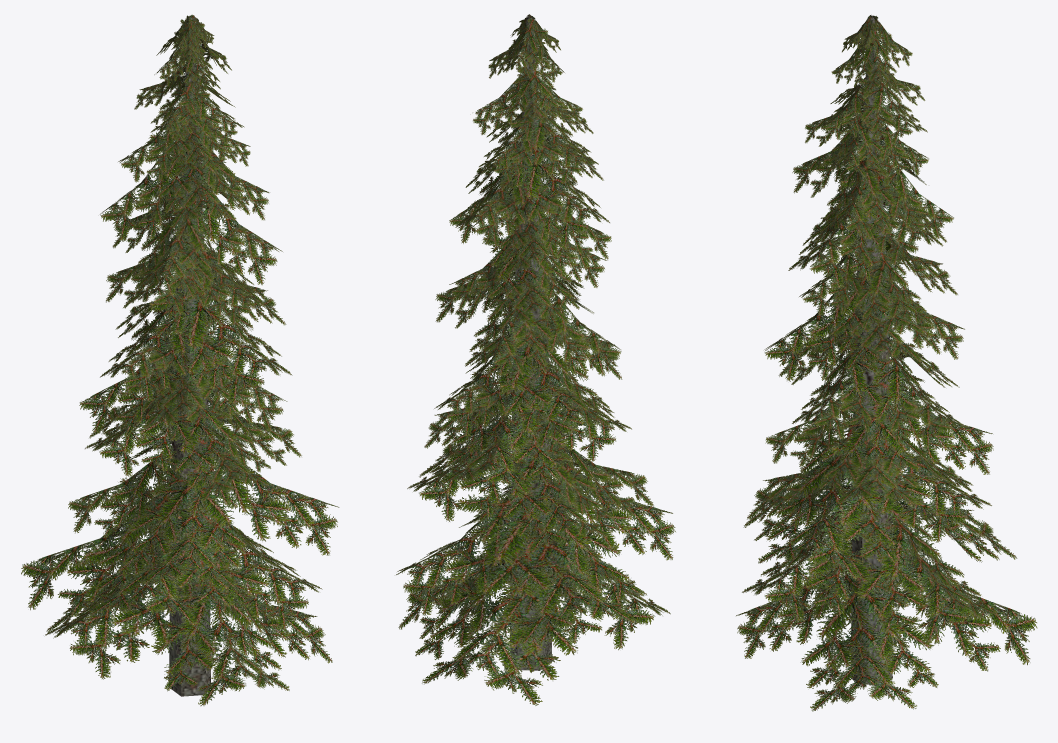
Rendered from abeto_a.glb.
3 views of the same model, side by side, from view 1: azimuth 30°, elevation 25°; view 2: azimuth 150°, elevation 25°; view 3: azimuth 270°, elevation 25° (orthographic). The views are drawn at different scales.
Visible parts, largest first — view 1: Modelo; view 2: Modelo; view 3: Modelo.
Part boxes in pixels (x1=…): Modelo: x1=21, y1=14, x2=339, y2=706; Modelo: x1=396, y1=14, x2=675, y2=705; Modelo: x1=736, y1=15, x2=1037, y2=711.
Bounding box in the file's own units: 3.45 × 7.41 × 3.3.
Materials: 1 (1 with a texture image).
